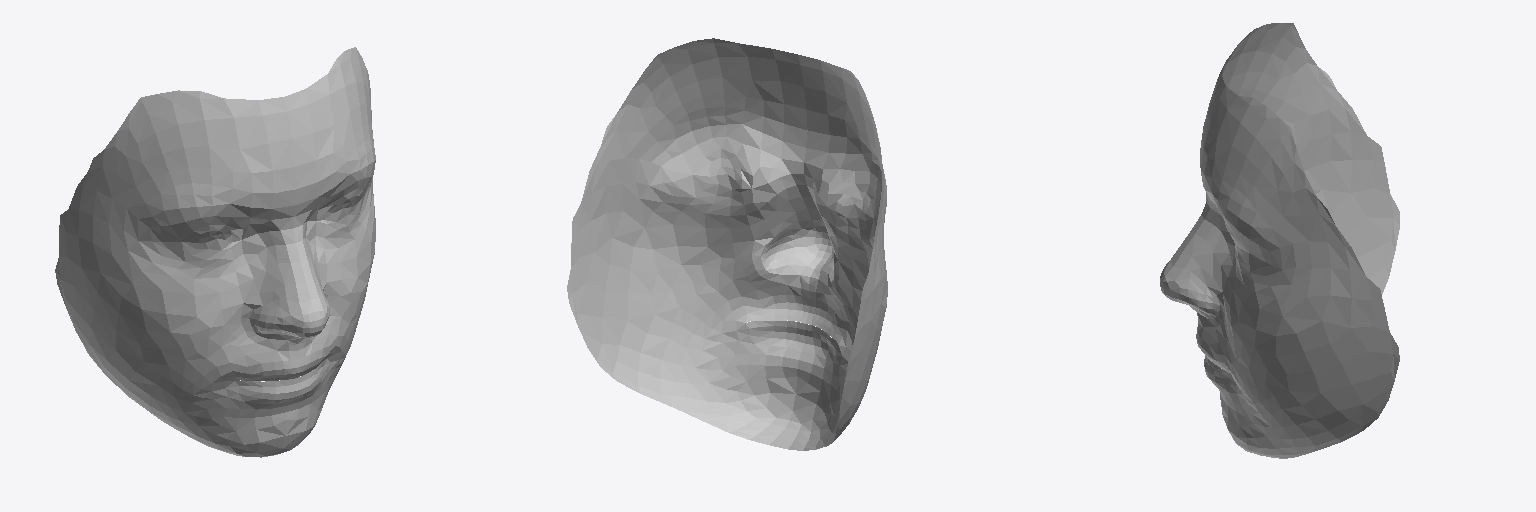
The model's file is reference.obj.
3 renders of one model, left to right at view 1: azimuth 30°, elevation 25°; view 2: azimuth 150°, elevation 25°; view 3: azimuth 270°, elevation 25°, orthographic.
Bounding box in the file's own units: 149 × 188 × 107.